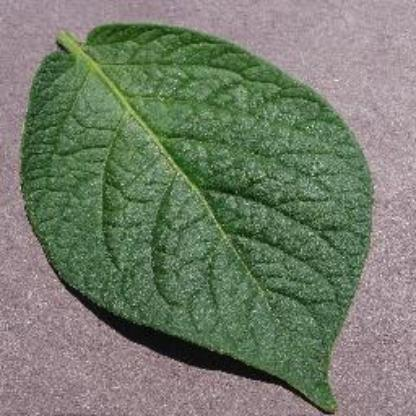Healthy-plant: (19, 19, 376, 415)
